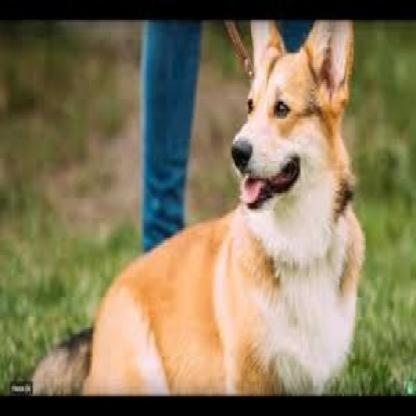dog: (29, 18, 366, 396)
